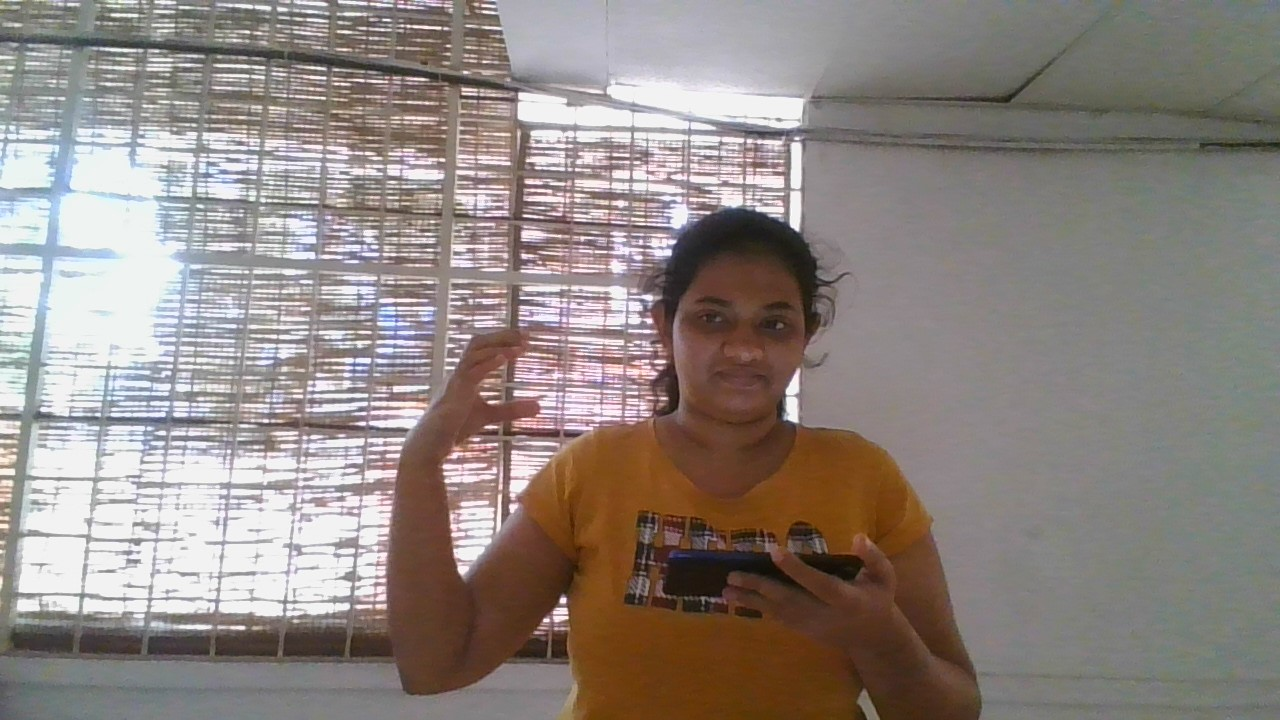c: (392, 307, 550, 463)
